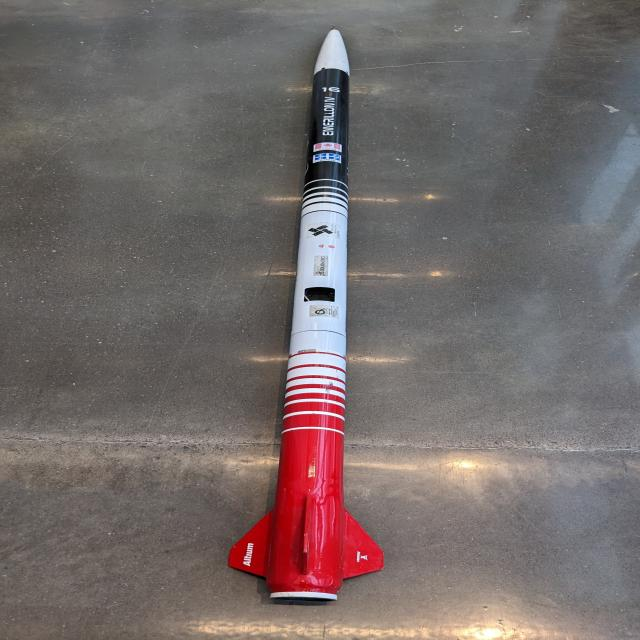Rocket: (227, 26, 385, 603)
